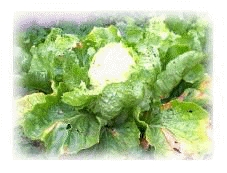cabbage: (17, 20, 209, 157)
